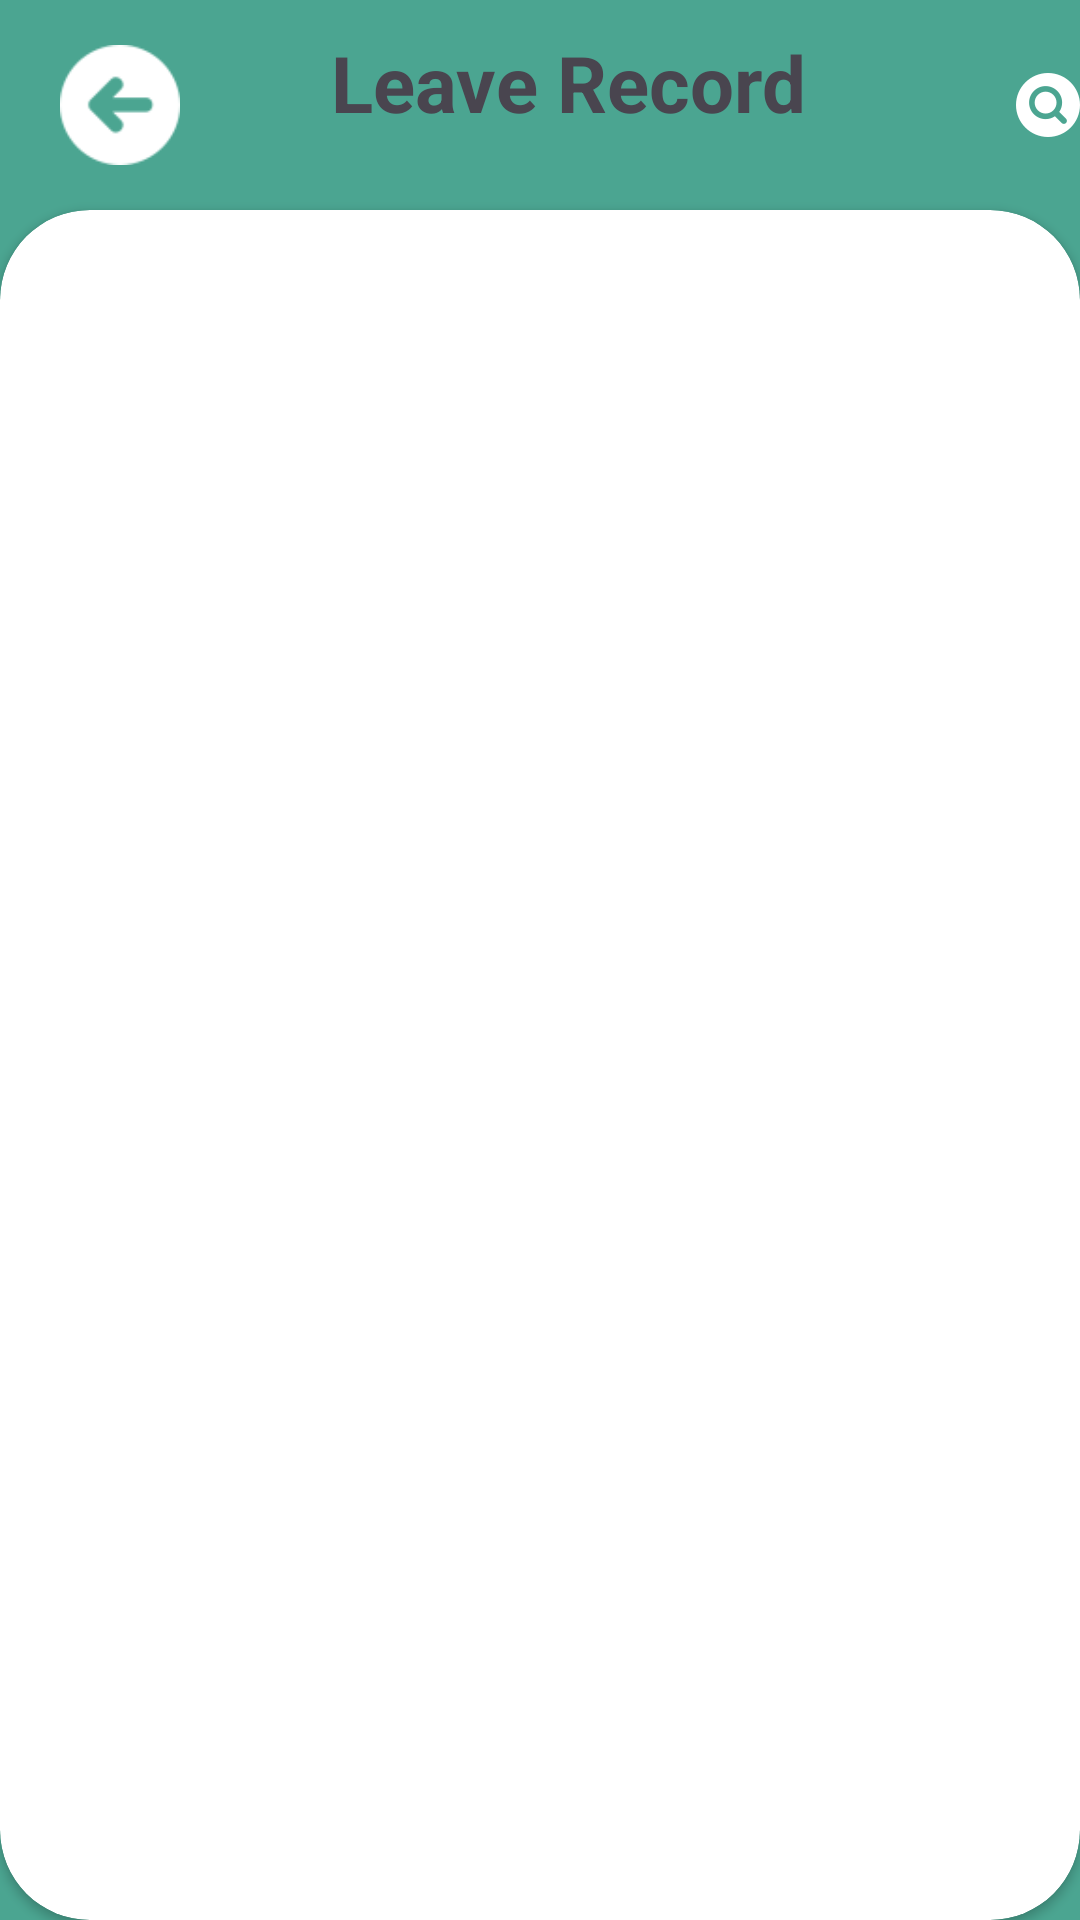

Named icons in this screenshot (1080*1920) and their bounding boxes, (left=x1, top=y1, right=x2, bottom=y2):
previous: (left=60, top=45, right=180, bottom=165)
search: (left=1016, top=73, right=1080, bottom=137)
